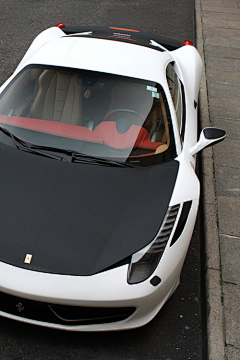other: (0, 14, 217, 336)
